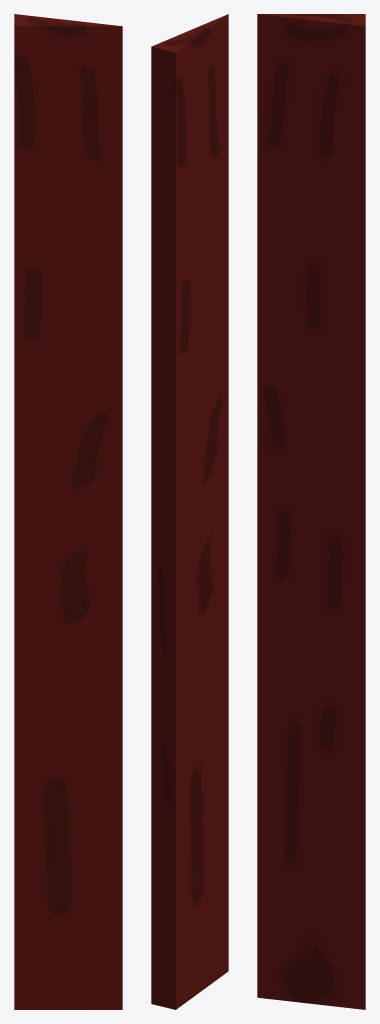
File: Fence_Lick(15).fbx
The picture shows the model from 3 angles, left to right: view 1: azimuth 90°, elevation 25°; view 2: azimuth 150°, elevation 25°; view 3: azimuth 270°, elevation 25°; orthographic projection. The views are drawn at different scales.
Visible parts, largest first — view 1: Cylinder; view 2: Cylinder; view 3: Cylinder.
Boxes of the visible parts, x1,y1,x2,y2 form: Cylinder: (14, 14, 122, 1009); Cylinder: (151, 14, 228, 1009); Cylinder: (257, 14, 365, 1009).
Bounding box in the file's own units: 0.8038 × 30 × 3.
